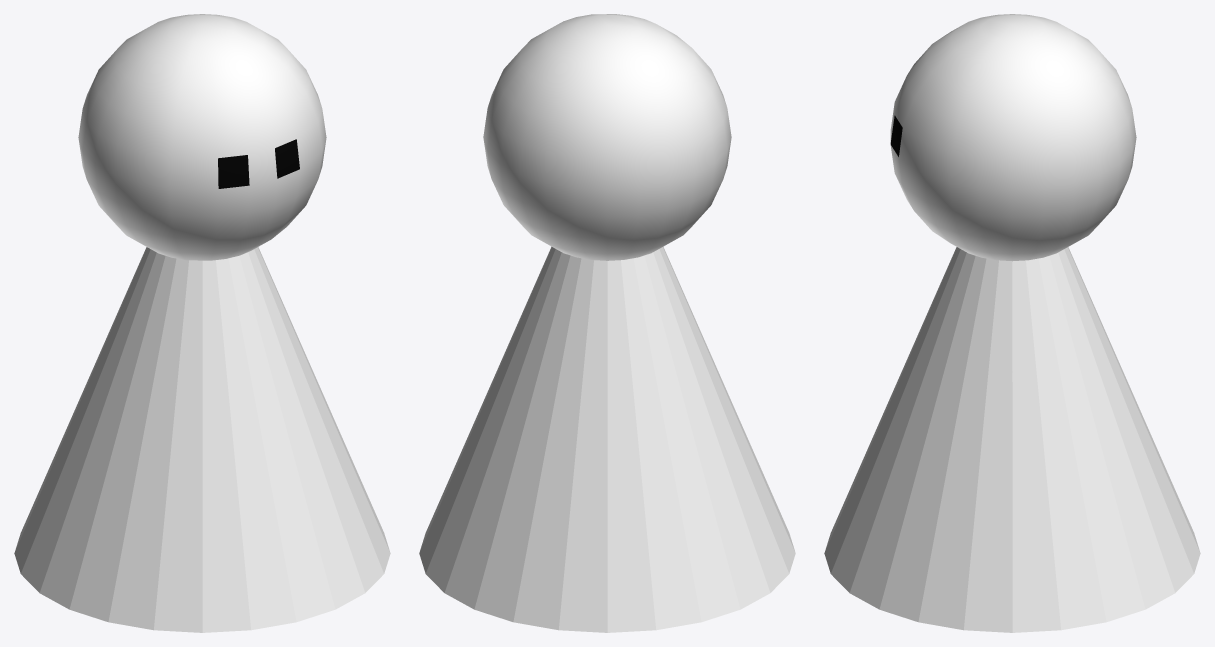
The model's file is first-avatar.glb.
The picture shows the model from 3 angles, left to right: view 1: azimuth 30°, elevation 25°; view 2: azimuth 150°, elevation 25°; view 3: azimuth 270°, elevation 25°; orthographic projection.
Visible parts, largest first — view 1: first-avatar; view 2: first-avatar; view 3: first-avatar.
Part boxes in pixels (box(x1,y1,x2,y2)): first-avatar: box(14, 14, 390, 632); first-avatar: box(419, 14, 795, 632); first-avatar: box(824, 14, 1200, 632).
Size of what is drawn, in the model's own units: 1.79 by 2.78 by 1.79.
Materials: 1 (1 with a texture image).
